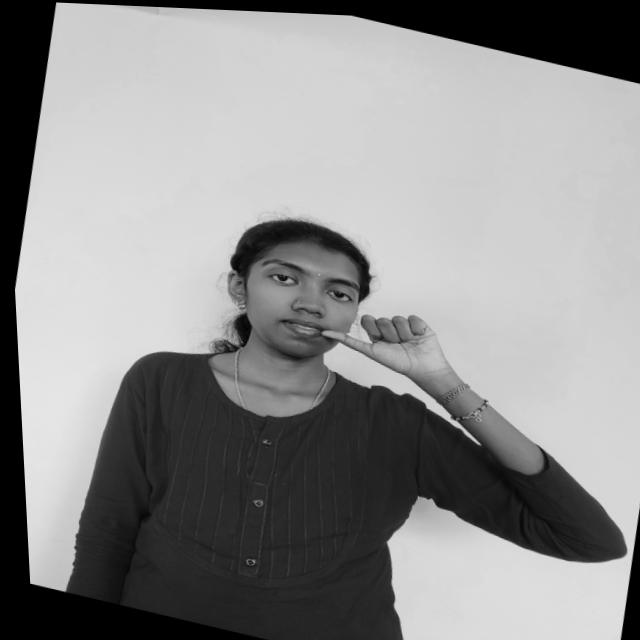Drink: (306, 286, 469, 392)
